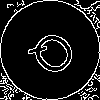Q: (25, 25, 87, 87)
